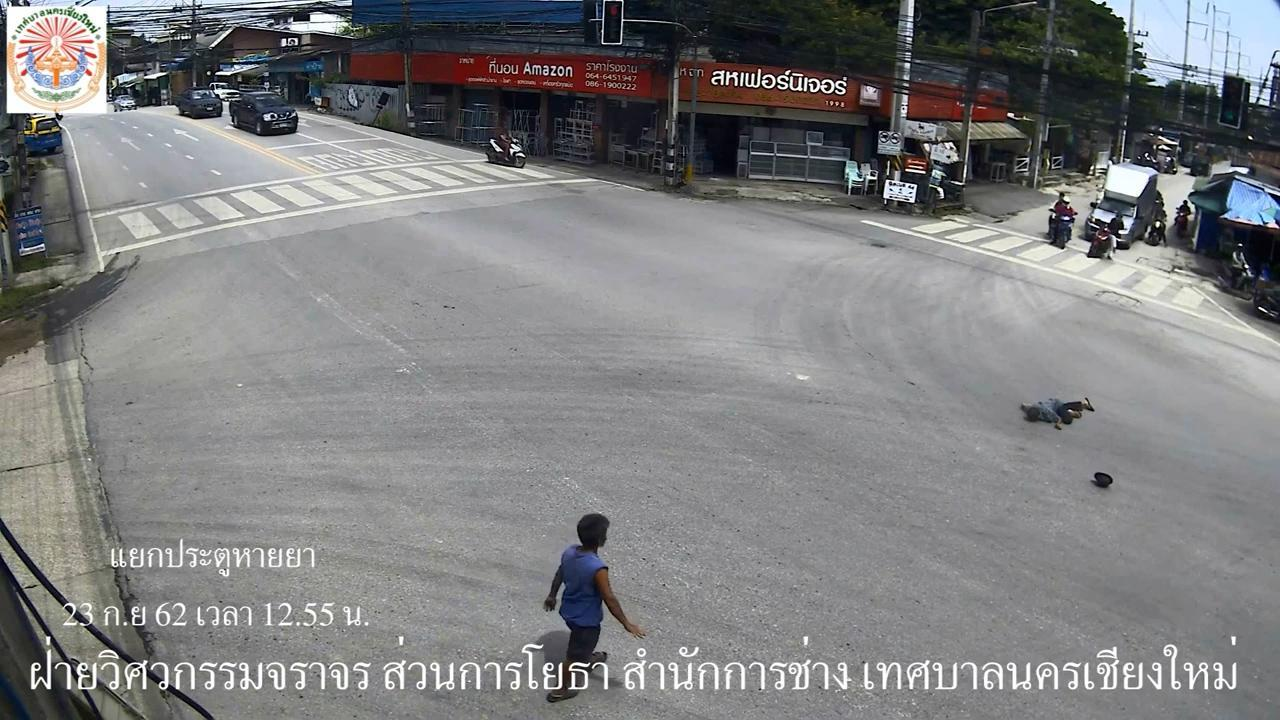accident: (1015, 387, 1102, 434)
